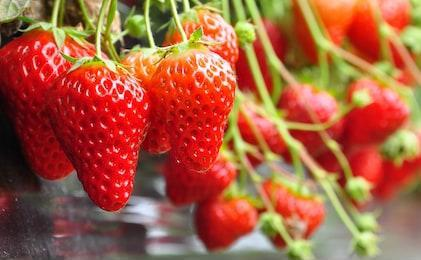Fresa: (2, 18, 117, 184), (44, 52, 153, 216), (150, 40, 239, 176)
